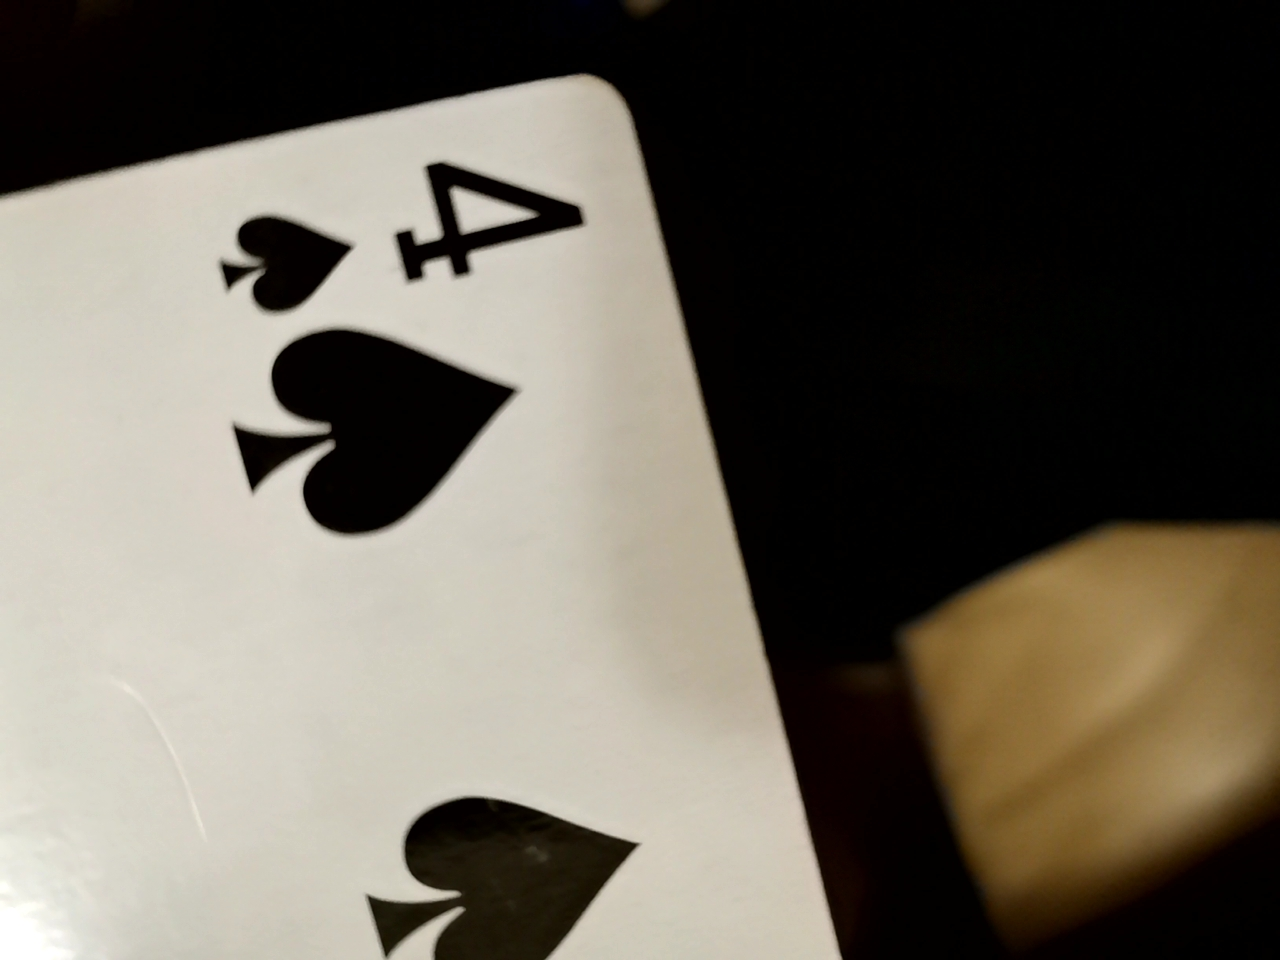ht 4: (4, 63, 890, 956)
